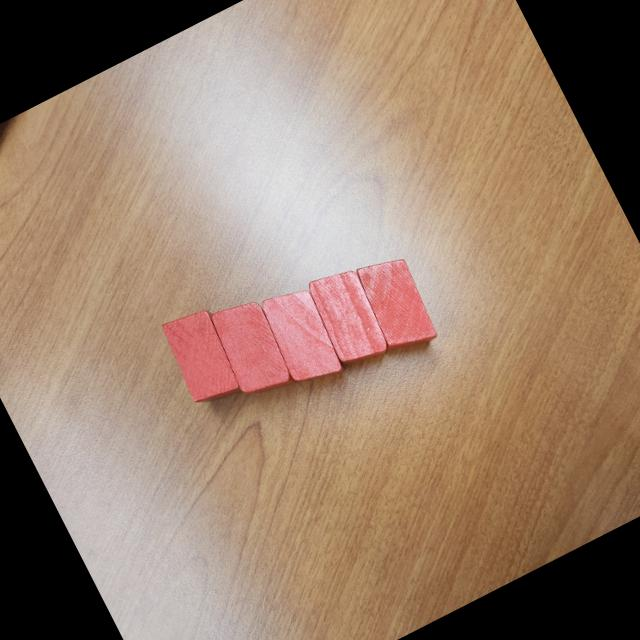red: (156, 302, 250, 412), (210, 303, 296, 395), (263, 290, 341, 383), (357, 259, 436, 350), (310, 270, 386, 364)
